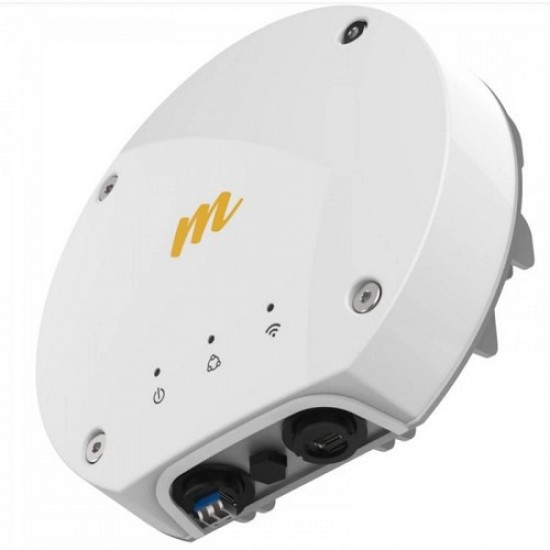ba: (18, 11, 540, 541)
